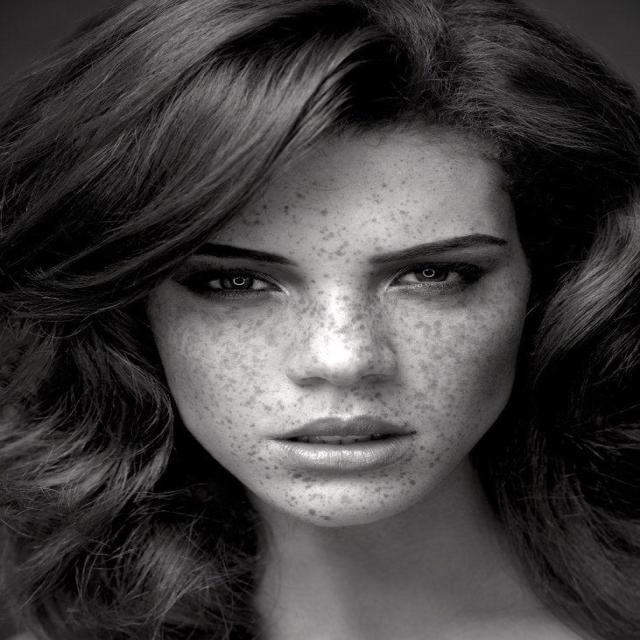freckle: (145, 295, 528, 504), (244, 180, 443, 249)
